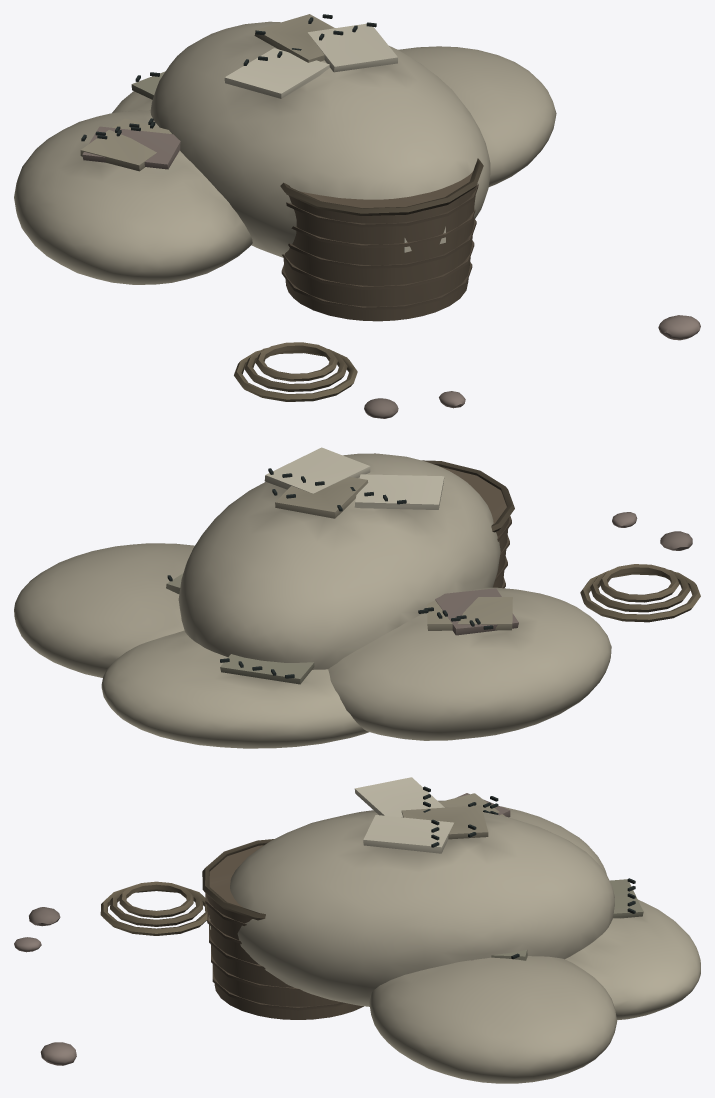
The model's file is balloon_basket_wreck_a_lod1.glb.
The picture shows the model from 3 angles, top to bottom: view 1: azimuth 30°, elevation 25°; view 2: azimuth 150°, elevation 25°; view 3: azimuth 270°, elevation 25°; orthographic projection. The views are drawn at different scales.
Visible parts, largest first — view 1: Surface.001; view 2: Surface.001; view 3: Surface.001.
Boxes of the visible parts, box(x1,y1,x2,y2) form: Surface.001: box(14, 14, 700, 418); Surface.001: box(14, 447, 700, 748); Surface.001: box(14, 777, 700, 1083).
Bounding box in the file's own units: 6.45 × 2.2 × 7.75.
